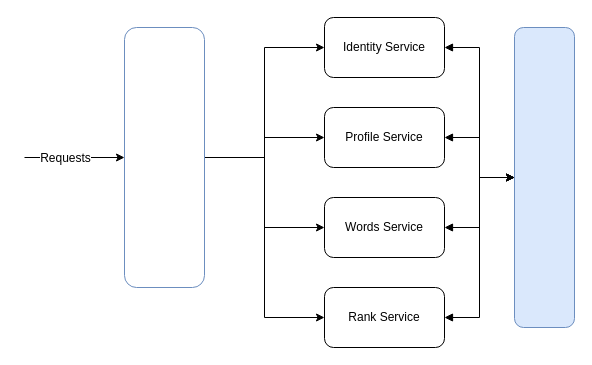
This 592x365 diagram has some shape labels left out. Here are the shapes that lost their labels. From the top down, the centre of each, then its label:
(x=164, y=157): O C E L O T G A T E W A Y
(x=544, y=177): R A B B I T M Q
